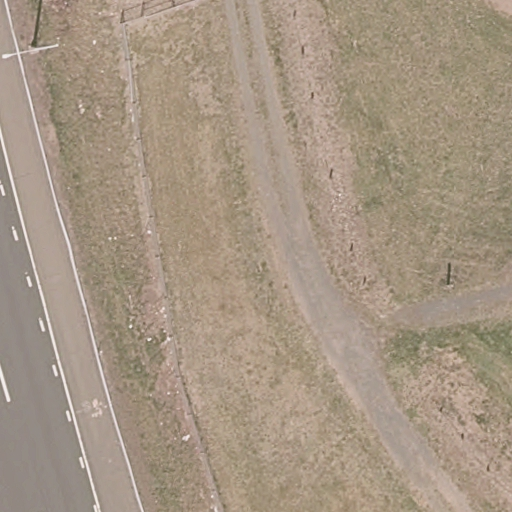DT: (1, 41, 62, 64)
